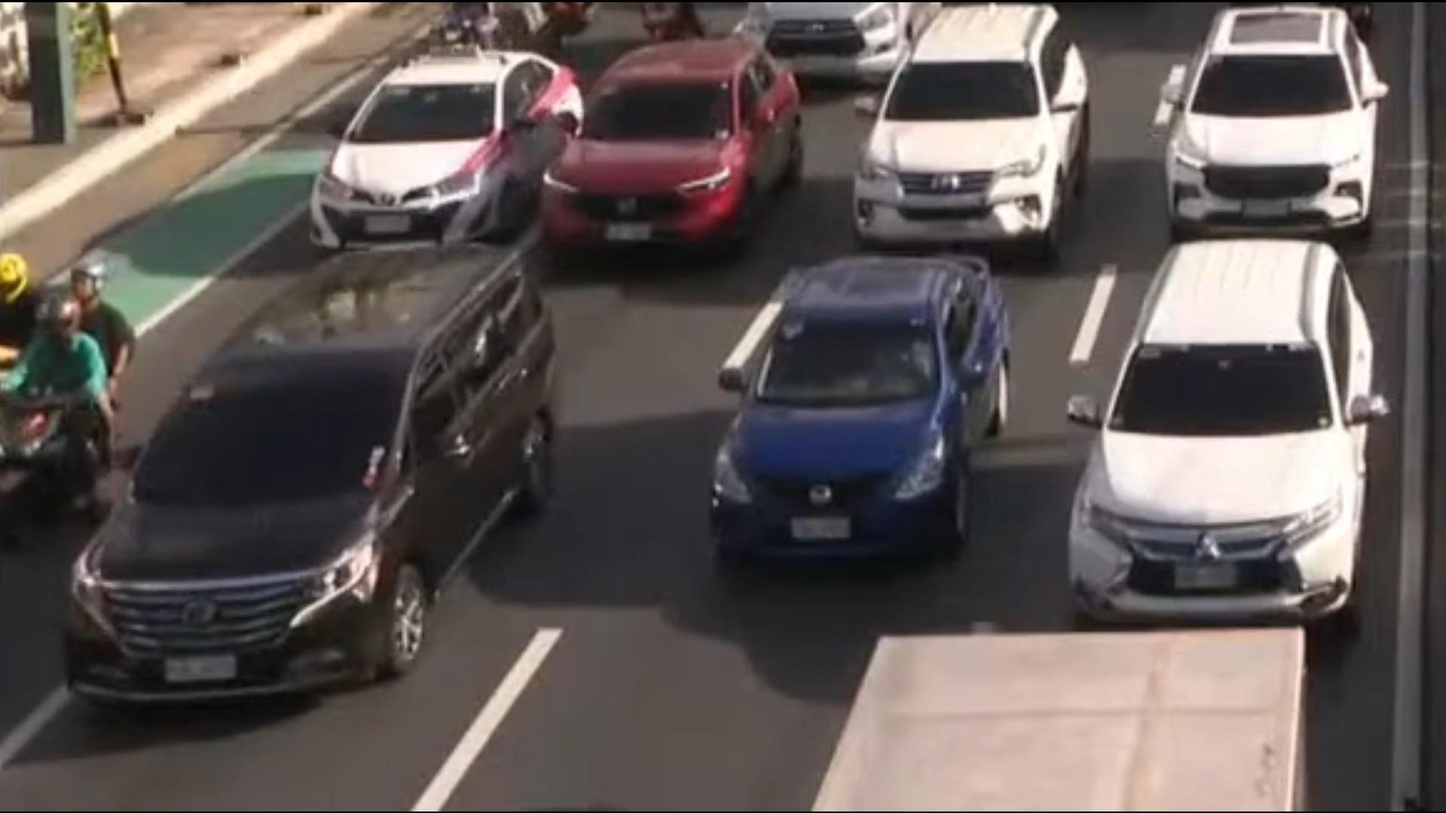Motorcycle: (0, 234, 172, 521)
SUV: (49, 198, 554, 761), (1054, 224, 1392, 650), (688, 226, 1027, 590), (813, 0, 1113, 267), (1147, 0, 1433, 240), (524, 42, 818, 264)
Sedan: (290, 21, 585, 273)
